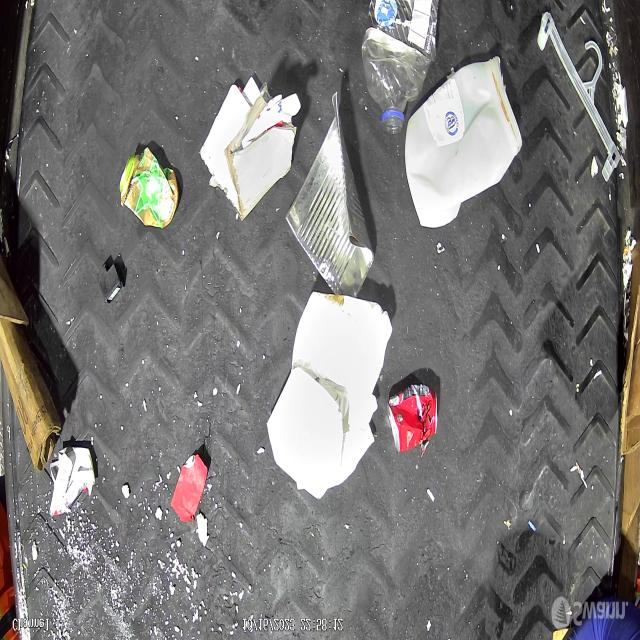can: (287, 93, 375, 311), (119, 152, 179, 229), (386, 383, 438, 453)
milk_jug: (404, 55, 523, 228)
plastic_bottle: (361, 0, 439, 135)
